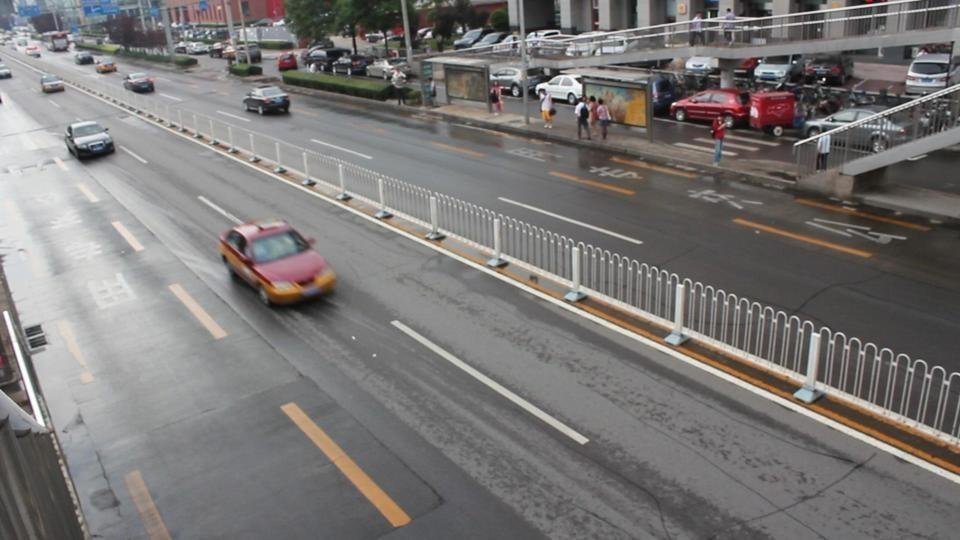car: (216, 219, 338, 307), (802, 108, 909, 152), (670, 89, 752, 125), (905, 49, 959, 95), (63, 120, 116, 162), (490, 67, 554, 99), (753, 53, 805, 87), (798, 54, 852, 85), (241, 84, 291, 115), (451, 30, 518, 52), (537, 75, 585, 104), (123, 72, 157, 93), (40, 73, 65, 95), (94, 59, 118, 74), (74, 50, 95, 65), (0, 64, 13, 79)
